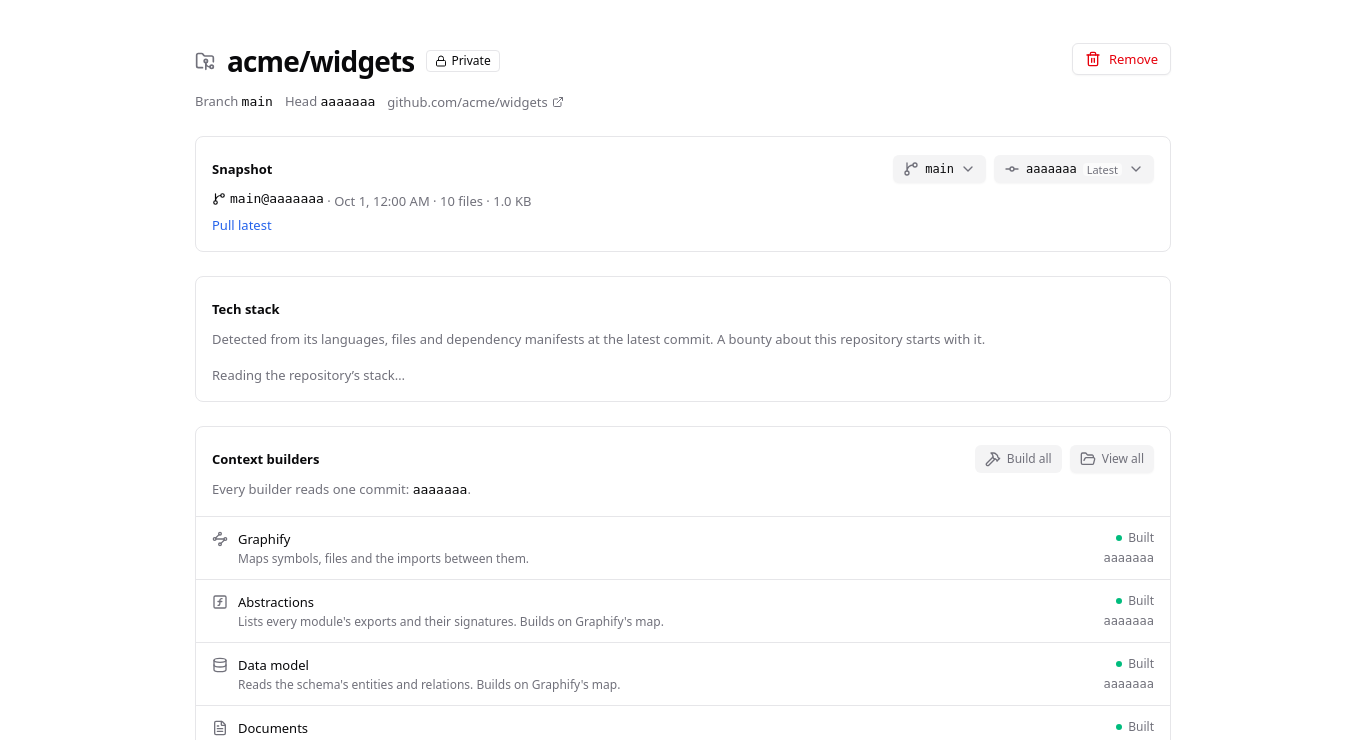
Test case: the context stays at its commit until Build all moves it to the chosen one
The image size is (1366, 740).
Expected: the text "Built" is shown, [1116,530,1154,546]
Expected: the button "Build all" is disabled, [975,445,1062,473]
Click the dropdown named "Source snapshot": (1074, 169) [994,155,1154,183]
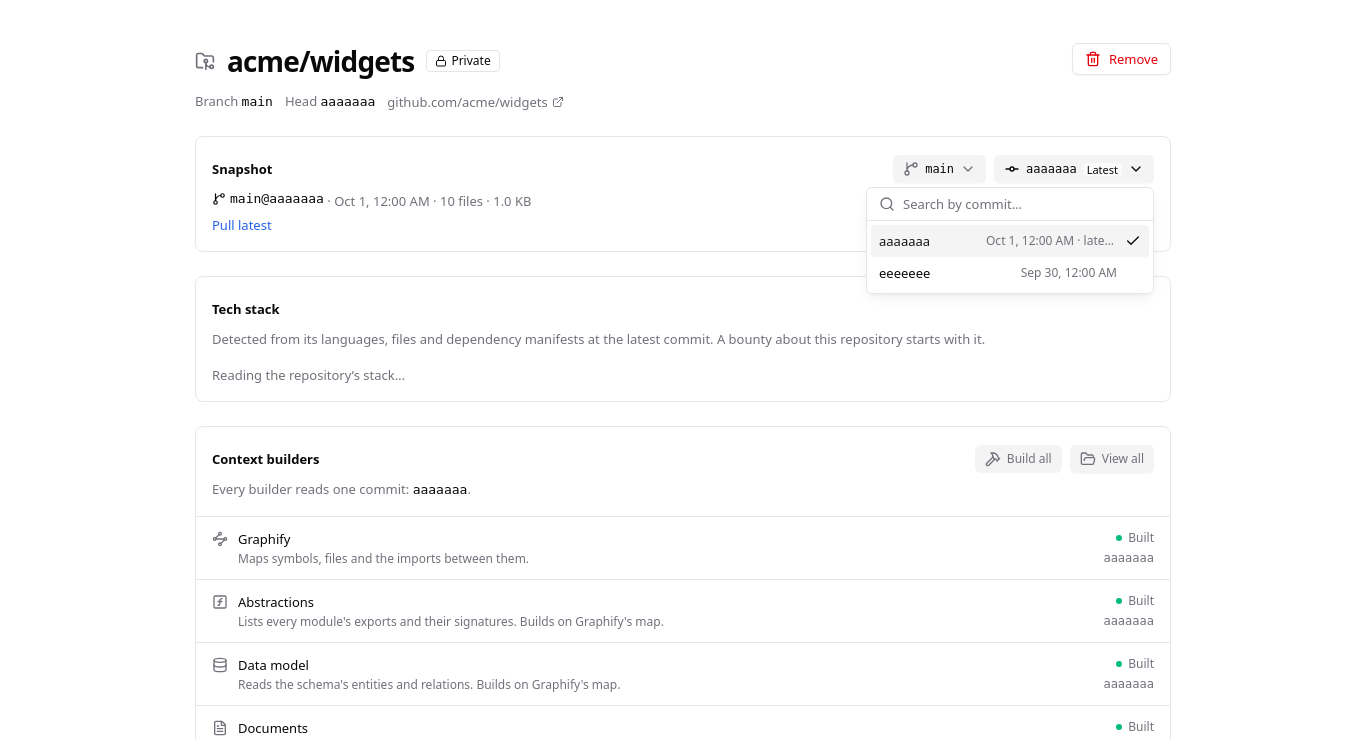
Click the option "eeeeeee Sep 30, 12:00 AM": (905, 273) [879,264,1117,282]
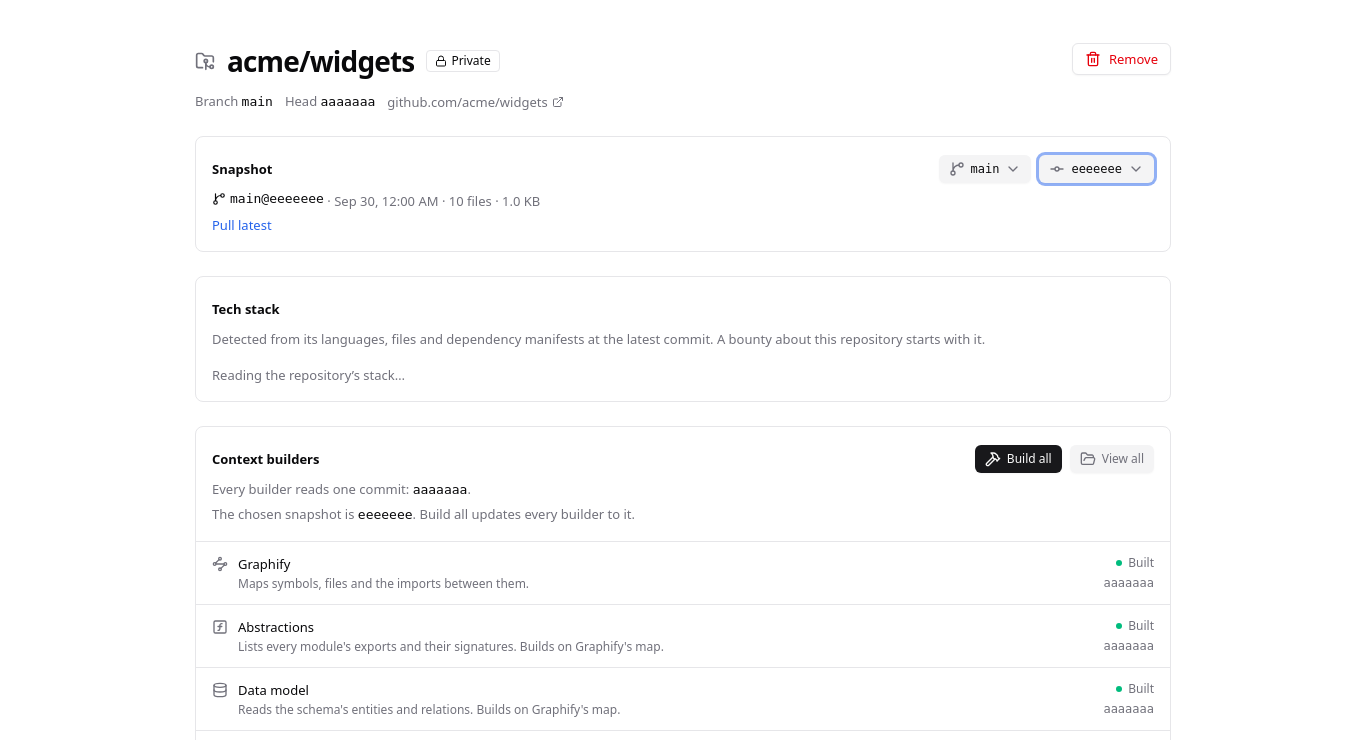
Expected: the text "Built" is shown, [1116,555,1154,571]
Expected: the text "Build all updates every builder to it" is shown, [420,505,635,523]
Expected: the button "Build all" is enabled
Click the button "Build all": (1018, 459) [975,445,1062,473]
(page scrolled)
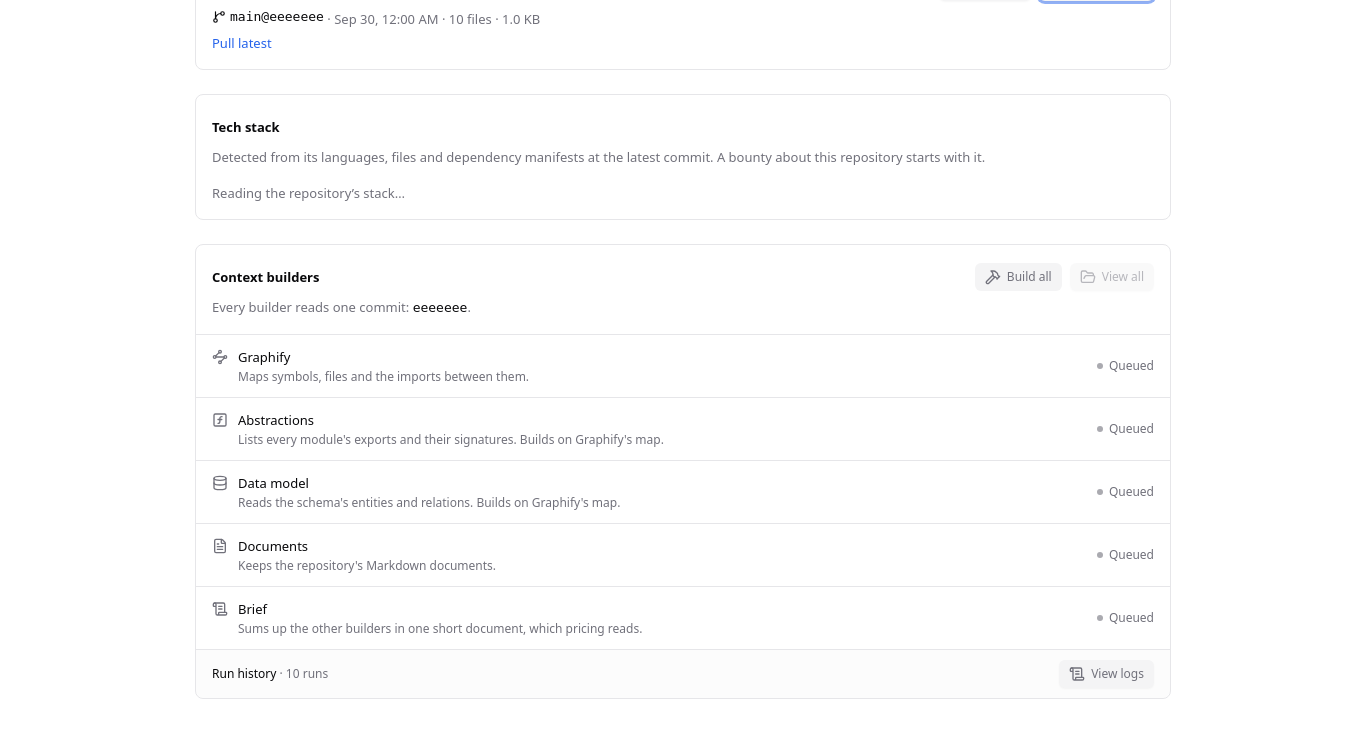
Expected: the text "eeeeeee" next to "Every builder reads one commit:" is shown, [413,300,467,315]
Expected: the element with test id "context-builders" shows "Every builder reads one commit: eeeeeee.", [195,244,1171,699]
Expected: the element with test id "context-builders" no longer shows "The chosen snapshot is"
